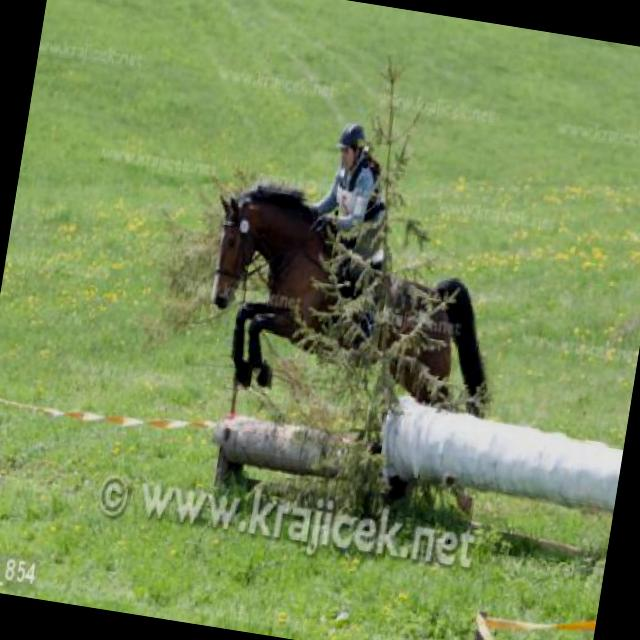Person: (306, 115, 398, 238)
